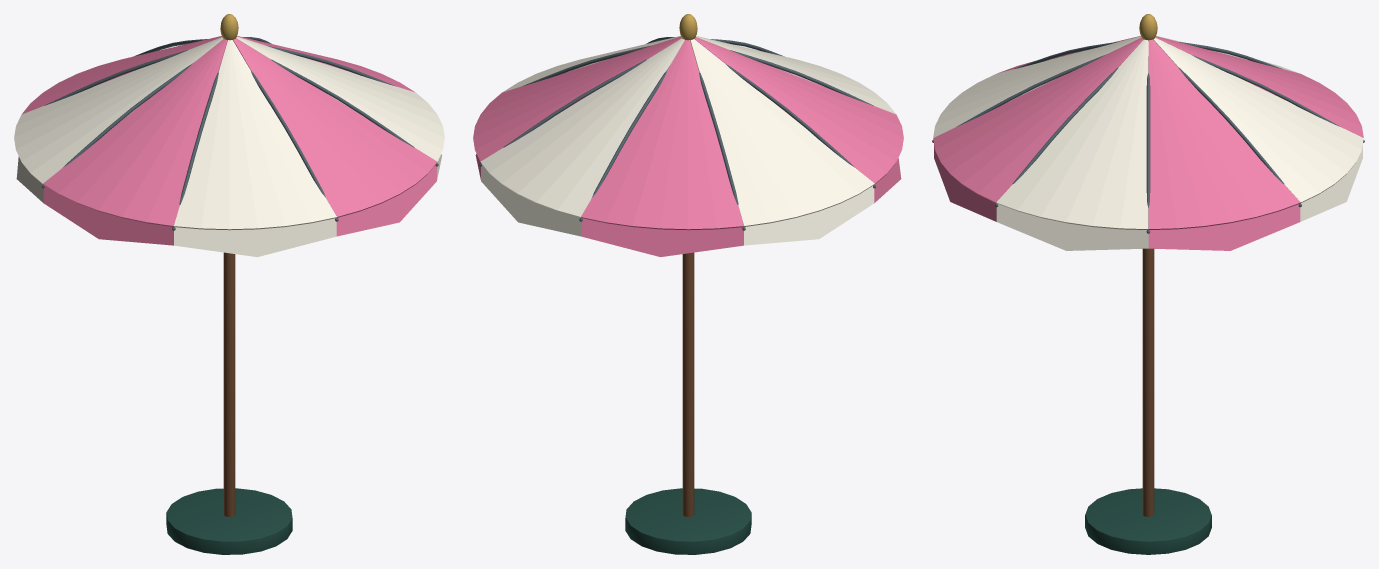
Rendered from parasol.glb.
3 renders of one model, left to right at view 1: azimuth 30°, elevation 25°; view 2: azimuth 150°, elevation 25°; view 3: azimuth 270°, elevation 25°, orthographic.
Parts seen in each view (by area): view 1: Canvas_panel.002, Canvas_panel.003, Canvas_panel.001, Canvas_panel.004, Base, Canvas_panel, Scalloped_valance.002, Pole, Scalloped_valance.003, Canvas_panel.005, Scalloped_valance.001, Canvas_panel.007 (+6 smaller); view 2: Canvas_panel.005, Canvas_panel.004, Canvas_panel.006, Canvas_panel.003, Base, Canvas_panel.007, Scalloped_valance.005, Pole, Scalloped_valance.004, Canvas_panel.002, Scalloped_valance.006, Canvas_panel (+6 smaller); view 3: Canvas_panel, Canvas_panel.007, Canvas_panel.006, Canvas_panel.001, Base, Canvas_panel.002, Canvas_panel.005, Pole, Scalloped_valance, Scalloped_valance.007, Scalloped_valance.001, Scalloped_valance.006 (+5 smaller).
Part boxes in pixels (x1,y1,x2,y2): Canvas_panel.002: (174,40,336,230); Canvas_panel.003: (43,39,227,226); Canvas_panel.001: (233,38,437,217); Canvas_panel.004: (14,37,223,183); Base: (166,488,292,554); Canvas_panel: (236,36,444,161); Scalloped_valance.002: (174,218,336,256); Pole: (223,252,235,516); Scalloped_valance.003: (43,186,173,245); Canvas_panel.005: (22,36,221,114); Scalloped_valance.001: (336,165,436,236); Canvas_panel.007: (237,36,414,92); Canvas_panel.005: (581,40,743,230); Canvas_panel.004: (690,39,874,226); Canvas_panel.006: (480,38,684,217); Canvas_panel.003: (694,37,903,183); Base: (625,488,751,554); Canvas_panel.007: (473,36,681,161); Scalloped_valance.005: (581,218,743,256); Pole: (682,252,694,516); Scalloped_valance.004: (744,186,874,245); Canvas_panel.002: (696,36,895,114); Scalloped_valance.006: (481,164,581,236); Canvas_panel: (503,36,680,92); Canvas_panel: (996,39,1148,229); Canvas_panel.007: (1148,39,1300,229); Canvas_panel.006: (1153,37,1363,203); Canvas_panel.001: (933,37,1143,203); Base: (1085,488,1211,554); Canvas_panel.002: (933,36,1141,137); Canvas_panel.005: (1155,36,1363,137); Pole: (1142,248,1154,516); Scalloped_valance: (996,204,1148,250); Scalloped_valance.007: (1148,204,1300,250); Scalloped_valance.001: (934,145,996,221); Scalloped_valance.006: (1300,145,1362,221).
Size of the model in its own units: 2.12 by 2.78 by 2.12.
